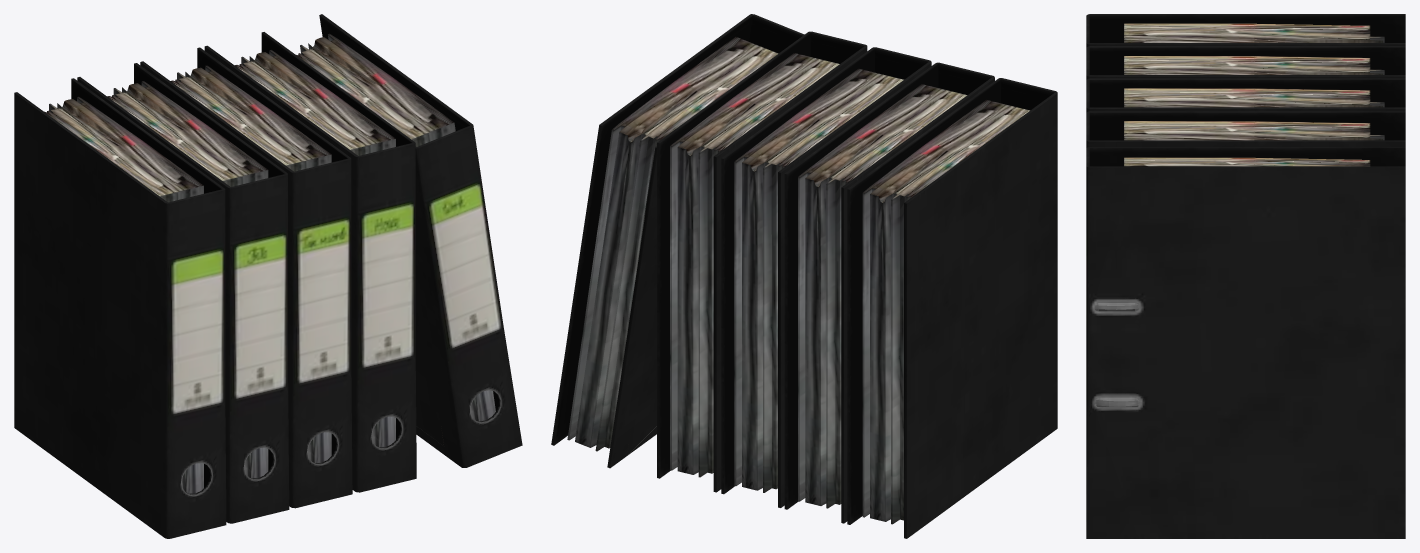
The model's file is several_folders.glb.
3 views of the same model, side by side, from view 1: azimuth 30°, elevation 25°; view 2: azimuth 150°, elevation 25°; view 3: azimuth 270°, elevation 25° (orthographic). The views are drawn at different scales.
Visible parts, largest first — view 1: folder_LP_nolabel, folder_LP_Work, folder_LP_House, folder_LP_TaxRecords, folder_LP_Bills; view 2: folder_LP_nolabel, folder_LP_Work, folder_LP_House, folder_LP_TaxRecords, folder_LP_Bills; view 3: folder_LP_Work, folder_LP_House, folder_LP_TaxRecords, folder_LP_Bills, folder_LP_nolabel.
Part boxes in pixels (left/top/right/bottom): folder_LP_nolabel: left=14, top=78, right=226, bottom=538; folder_LP_Work: left=296, top=14, right=522, bottom=467; folder_LP_House: left=204, top=32, right=416, bottom=492; folder_LP_TaxRecords: left=140, top=47, right=352, bottom=508; folder_LP_Bills: left=77, top=63, right=289, bottom=523; folder_LP_nolabel: left=847, top=78, right=1057, bottom=538; folder_LP_Work: left=551, top=14, right=804, bottom=468; folder_LP_House: left=657, top=31, right=867, bottom=492; folder_LP_TaxRecords: left=721, top=47, right=931, bottom=507; folder_LP_Bills: left=784, top=62, right=994, bottom=523; folder_LP_Work: left=1086, top=147, right=1405, bottom=538; folder_LP_House: left=1086, top=111, right=1405, bottom=147; folder_LP_TaxRecords: left=1086, top=78, right=1405, bottom=112; folder_LP_Bills: left=1086, top=46, right=1405, bottom=79; folder_LP_nolabel: left=1086, top=14, right=1405, bottom=47.
Size of the model in its own units: 42.68 by 39.09 by 31.7.
Materials: 5 (5 with a texture image).
